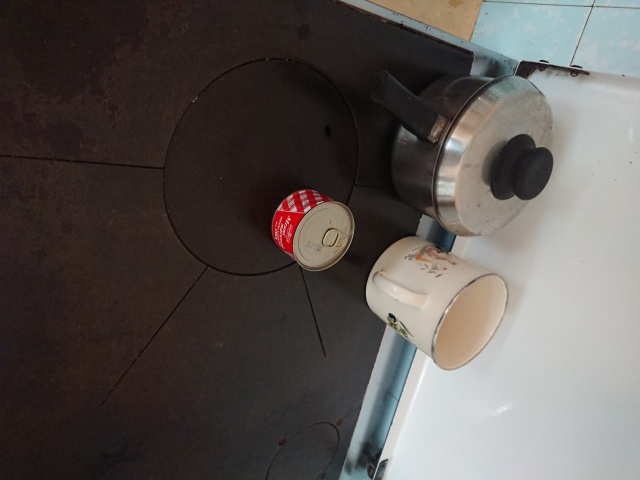Podravka Luncheon Meat 150g: (268, 186, 357, 274)
